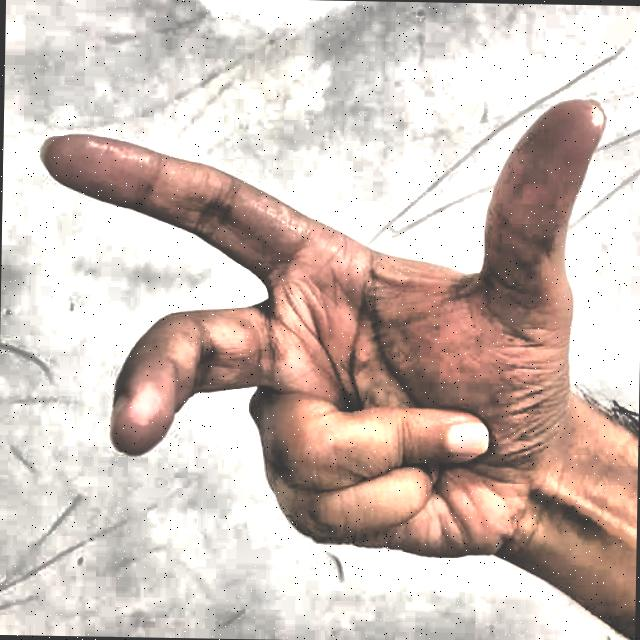Da: (10, 19, 621, 624)
